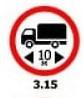road_sign: (10, 6, 78, 74)
